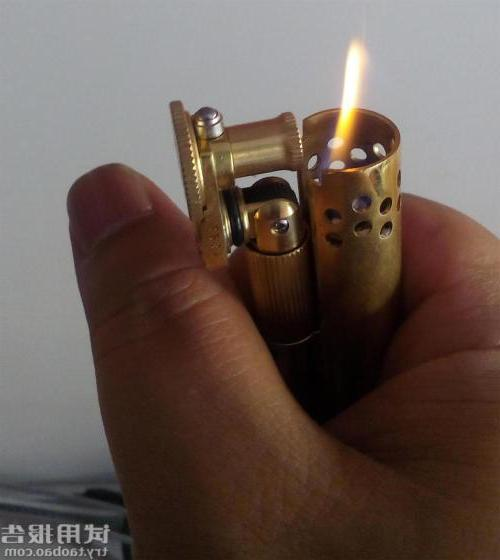fire: (306, 24, 393, 169)
